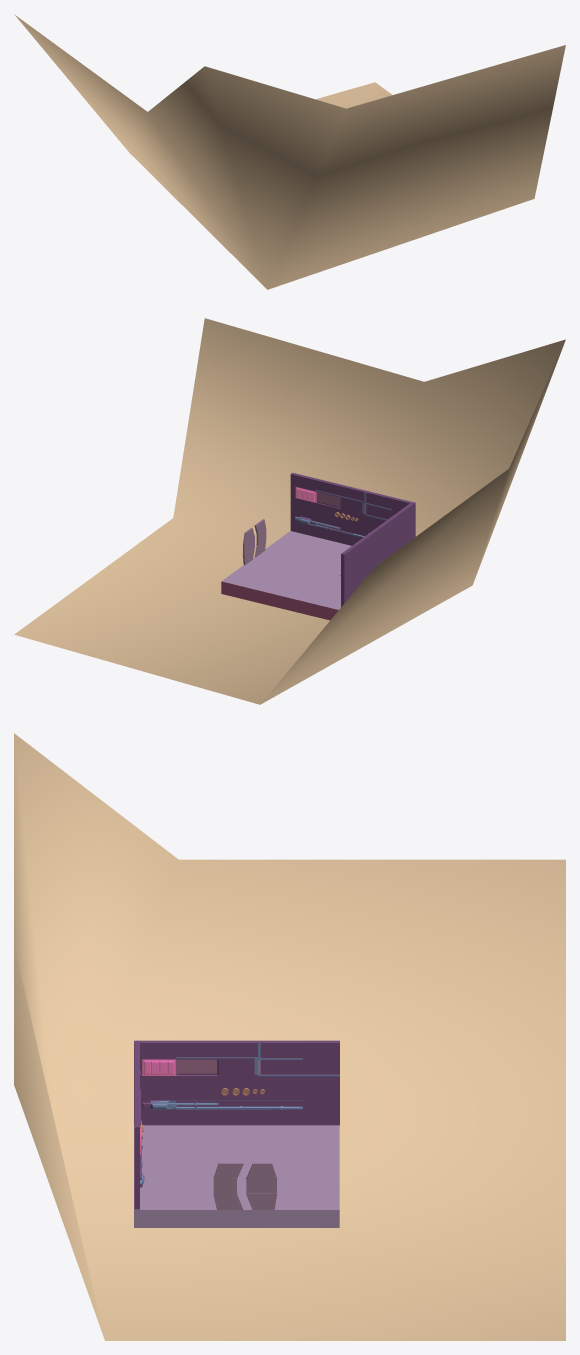
Rendered from check.fbx.
3 renders of one model, top to bottom at view 1: azimuth 30°, elevation 25°; view 2: azimuth 150°, elevation 25°; view 3: azimuth 270°, elevation 25°, orthographic. The views are drawn at different scales.
Parts seen in each view (by area): view 1: pCube131; view 2: pCube131, polySurface7, polySurface38, polySurface42, polySurface8; view 3: pCube131, polySurface7, polySurface42, pCube129, pCube128, polySurface38.
Boxes of the visible parts, bbox=[...] form: pCube131: bbox=[14, 14, 565, 289]; pCube131: bbox=[14, 318, 565, 704]; polySurface7: bbox=[221, 531, 351, 609]; polySurface38: bbox=[290, 472, 415, 545]; polySurface42: bbox=[340, 501, 415, 607]; polySurface8: bbox=[221, 581, 338, 620]; pCube131: bbox=[14, 733, 565, 1340]; polySurface7: bbox=[134, 1125, 339, 1227]; polySurface42: bbox=[134, 1040, 339, 1125]; pCube129: bbox=[246, 1163, 277, 1209]; pCube128: bbox=[213, 1163, 243, 1209]; polySurface38: bbox=[134, 1043, 142, 1209].
Bounding box in the file's own units: 29.63 × 19.9 × 27.1.
